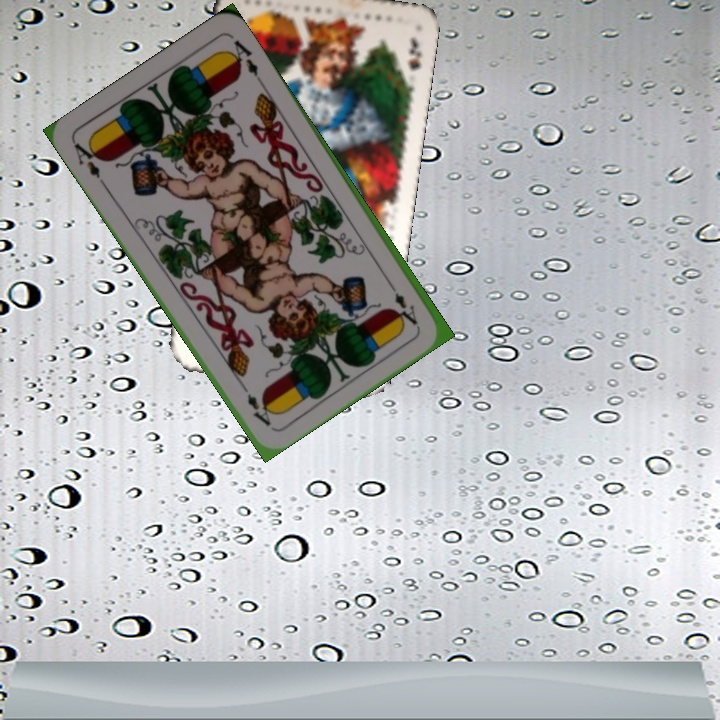EA: (69, 136, 109, 190), (384, 278, 420, 328)
